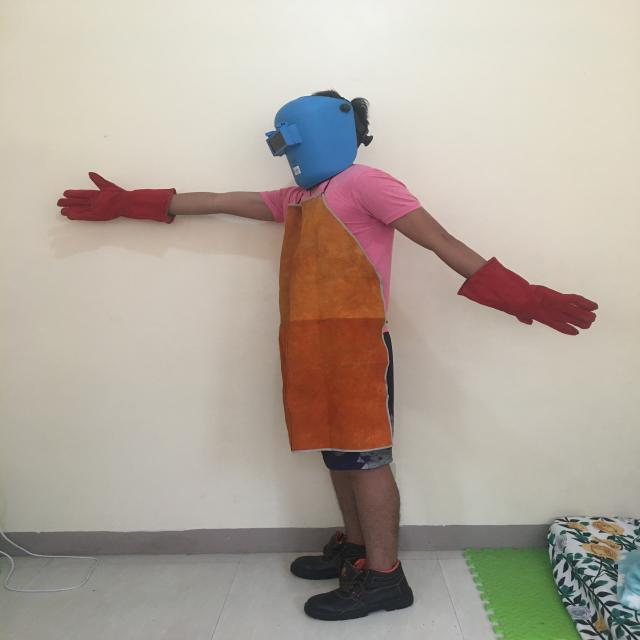with_helmet: (266, 95, 358, 189)
